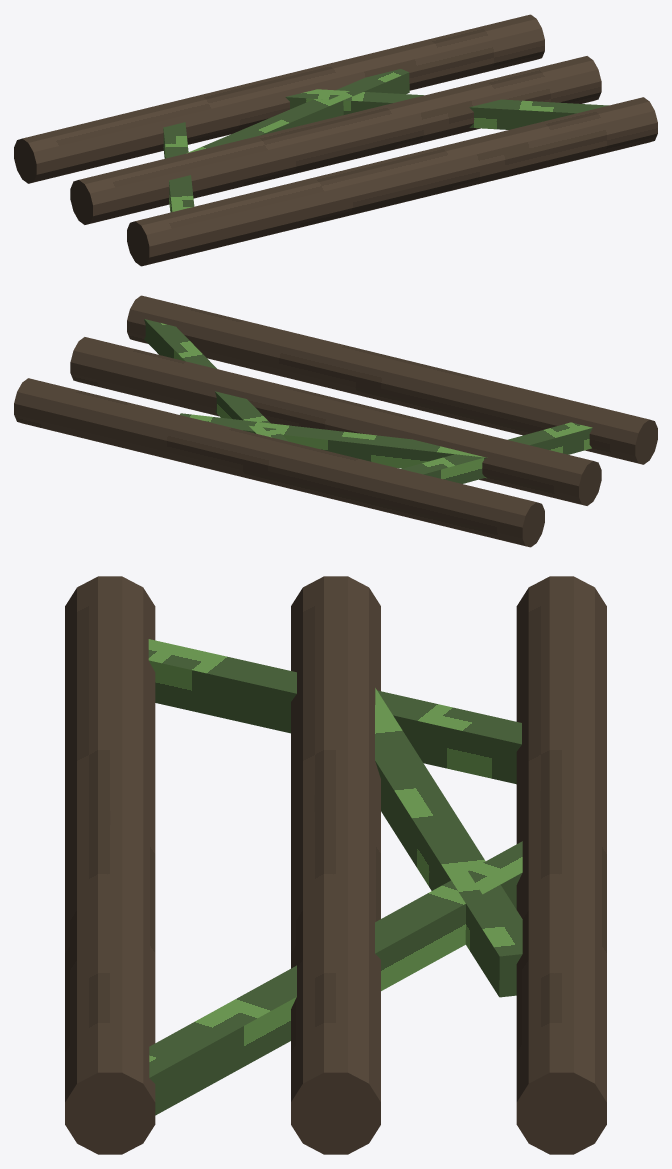
3 renders of one model, top to bottom at view 1: azimuth 30°, elevation 25°; view 2: azimuth 150°, elevation 25°; view 3: azimuth 270°, elevation 25°, orthographic. The views are drawn at different scales.
Visible parts, largest first — view 1: cylinder, cylinder_2, cylinder_1, mesh, mesh_2, mesh_1; view 2: cylinder_1, cylinder, cylinder_2, mesh_2, mesh_1, mesh; view 3: cylinder, cylinder_1, cylinder_2, mesh, mesh_1, mesh_2.
Part boxes in pixels (x1,y1,x2,y2): cylinder: [127, 97, 657, 266]; cylinder_2: [70, 56, 601, 224]; cylinder_1: [14, 14, 544, 183]; mesh: [285, 89, 608, 129]; mesh_2: [186, 69, 409, 153]; mesh_1: [163, 122, 194, 212]; cylinder_1: [14, 378, 544, 547]; cylinder: [127, 295, 657, 464]; cylinder_2: [70, 337, 601, 505]; mesh_2: [180, 413, 486, 478]; mesh_1: [402, 422, 592, 483]; mesh: [144, 319, 288, 441]; cylinder: [65, 576, 155, 1154]; cylinder_1: [516, 576, 606, 1154]; cylinder_2: [291, 576, 380, 1154]; mesh: [149, 841, 522, 1115]; mesh_1: [148, 639, 521, 784]; mesh_2: [375, 688, 522, 997].
Bounding box in the file's own units: 162 × 12.5 × 75.
Materials: 2 (2 with a texture image).
